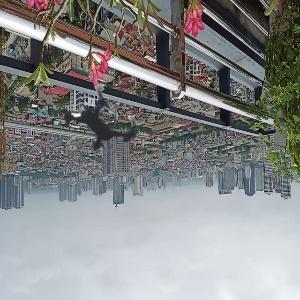drone: (36, 56, 165, 185)
